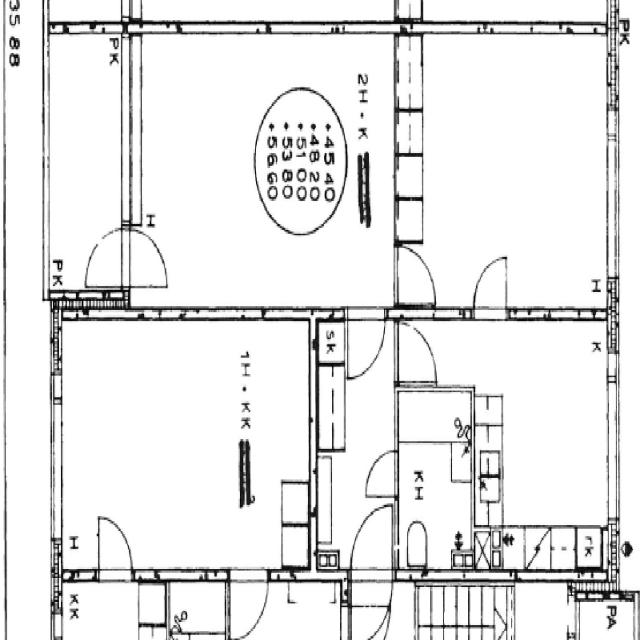door: (351, 499, 395, 579), (94, 509, 138, 584), (82, 224, 129, 292), (123, 223, 170, 291), (469, 248, 513, 318), (227, 568, 271, 636), (396, 319, 438, 389), (394, 240, 437, 308), (346, 309, 386, 381), (361, 444, 400, 502)
window: (606, 352, 619, 524), (50, 372, 61, 542)
zone: (52, 308, 347, 576), (125, 27, 394, 317), (394, 28, 610, 312), (473, 319, 614, 572), (42, 25, 129, 294), (397, 390, 473, 575), (63, 578, 231, 640), (168, 575, 229, 639), (316, 316, 346, 364)
